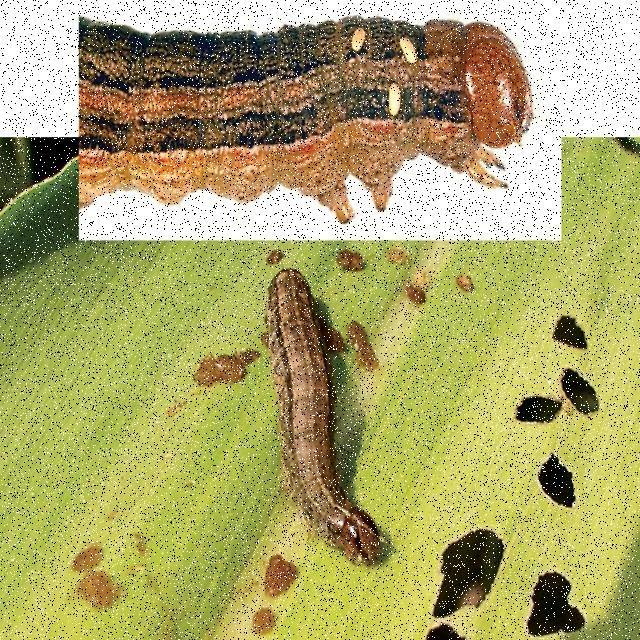army worm: (84, 15, 550, 210), (243, 256, 416, 578)
